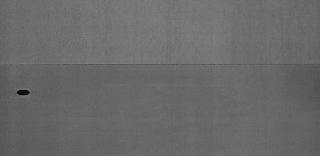punching hole: (15, 89, 33, 97)
welding line: (2, 60, 318, 70)
